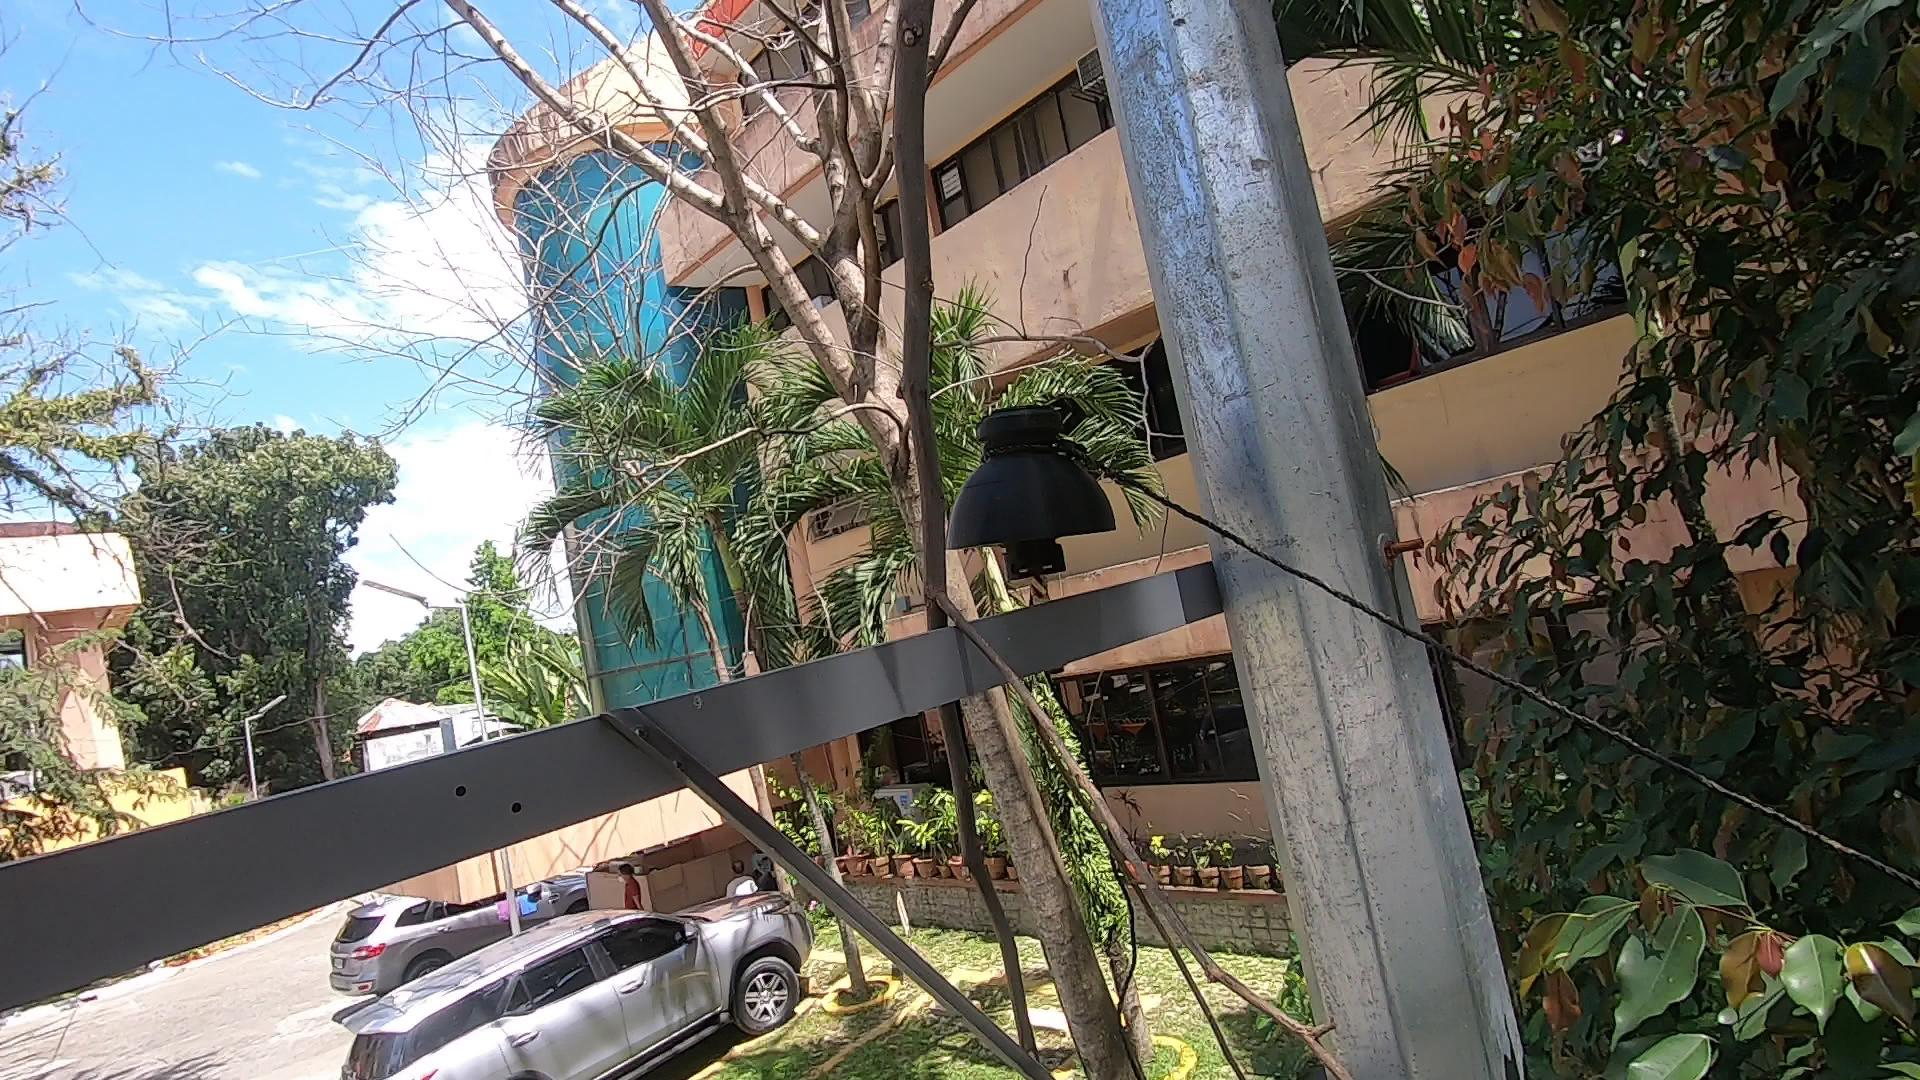tree branch: (800, 1, 1360, 1080)
